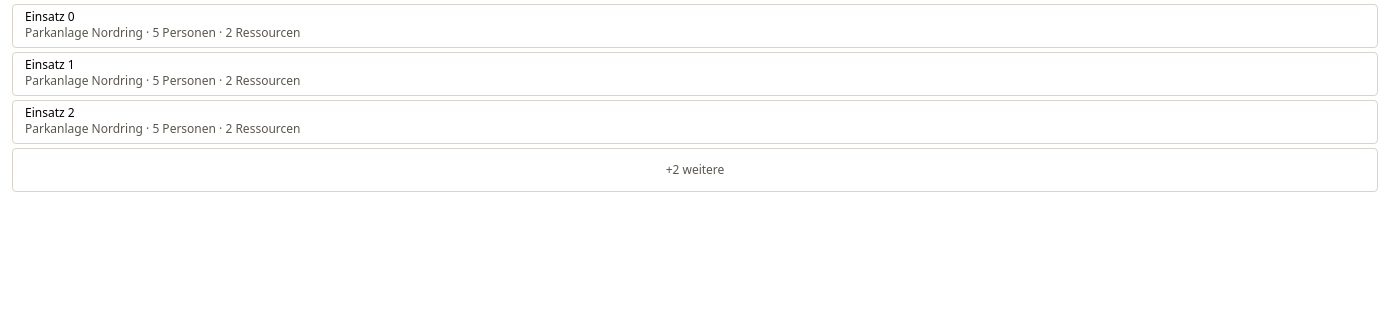
DayCardStack › macht mit der Maus alle Karten des Tages sichtbar
The image size is (1390, 309).
Click the button with test id "mehr-karten" at (695,170), box [12,148,1378,192]
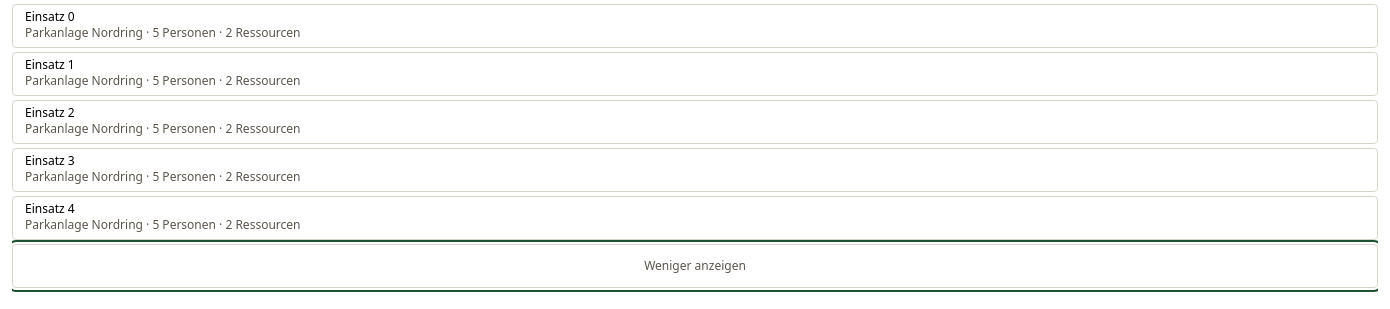
Expected: the number of buttons with test id "tageskarte" is 5, [12,4,1378,48]; [12,52,1378,96]; [12,100,1378,144]; [12,148,1378,192]; [12,196,1378,240]
Expected: the button with test id "mehr-karten" is expanded, [12,244,1378,288]
Expected: the button with test id "mehr-karten" reads "Weniger anzeigen", [12,244,1378,288]
